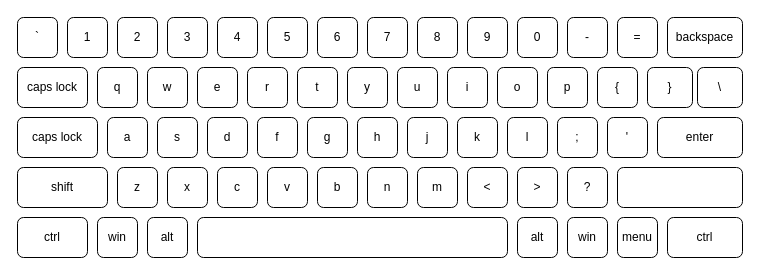
This 760x275 diagram has some shape labels left out. The shapes that lost their labels are listed below. From the top down, each one's box as (x1, y1, x2, y2) in pixels, then its label:
(616, 166, 742, 208): shitf
(196, 216, 508, 258): space
